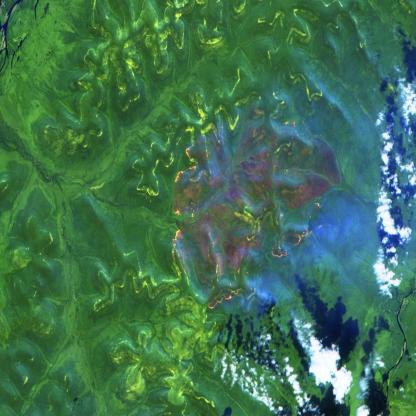fire: (158, 178, 193, 284), (204, 274, 252, 323), (268, 222, 314, 271), (267, 101, 320, 141)
